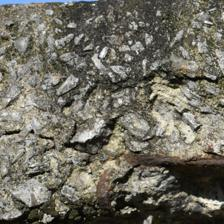Crack: (82, 66, 223, 105)
